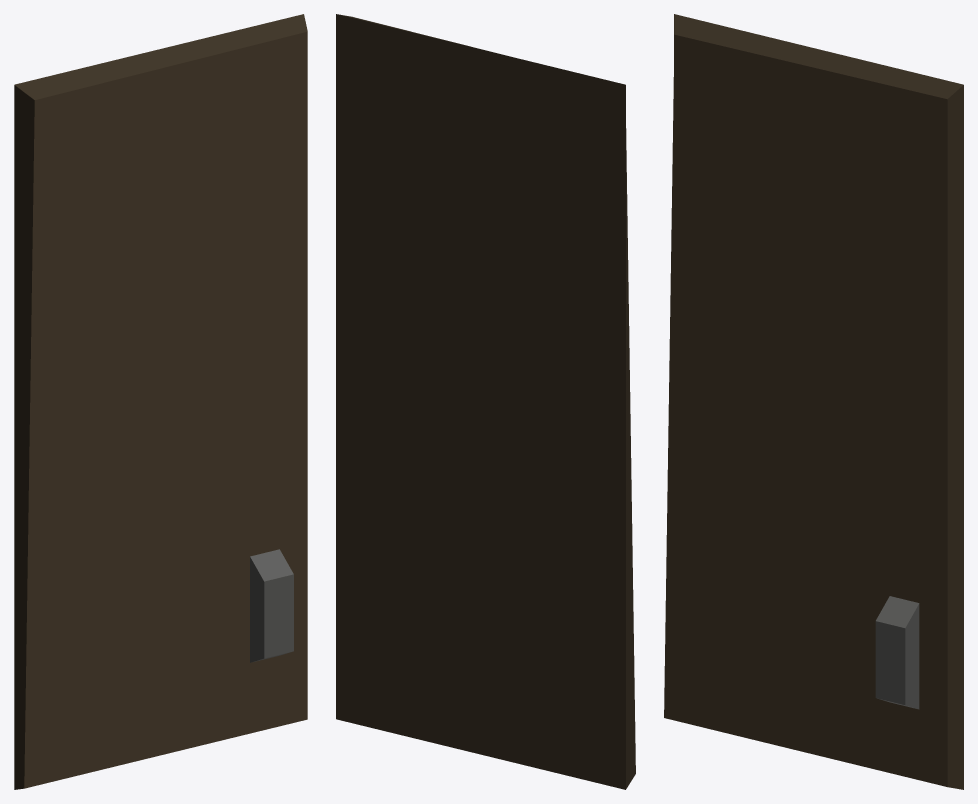
File: SM_Prop_Wardrobe_01_Door_02.glb
3 renders of one model, left to right at view 1: azimuth 30°, elevation 25°; view 2: azimuth 150°, elevation 25°; view 3: azimuth 330°, elevation 25°, orthographic.
Visible parts, largest first — view 1: SM_Prop_Wardrobe_01_Door_02; view 2: SM_Prop_Wardrobe_01_Door_02; view 3: SM_Prop_Wardrobe_01_Door_02.
Part boxes in pixels (<box>): SM_Prop_Wardrobe_01_Door_02: <box>14,14,307,789</box>; SM_Prop_Wardrobe_01_Door_02: <box>336,14,635,789</box>; SM_Prop_Wardrobe_01_Door_02: <box>664,14,963,789</box>.
Size of the model in its own units: 0.537 by 1.25 by 0.078.
1 material, 1 textured.
